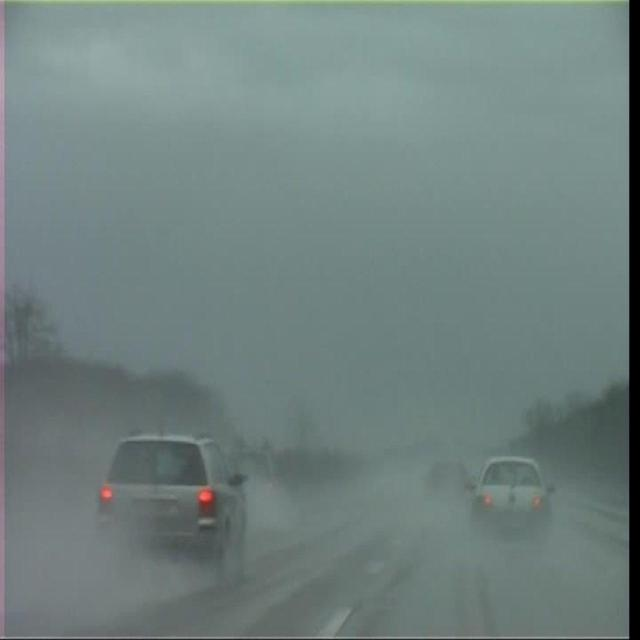Car: (96, 414, 250, 575), (466, 438, 552, 550), (426, 436, 468, 509)
